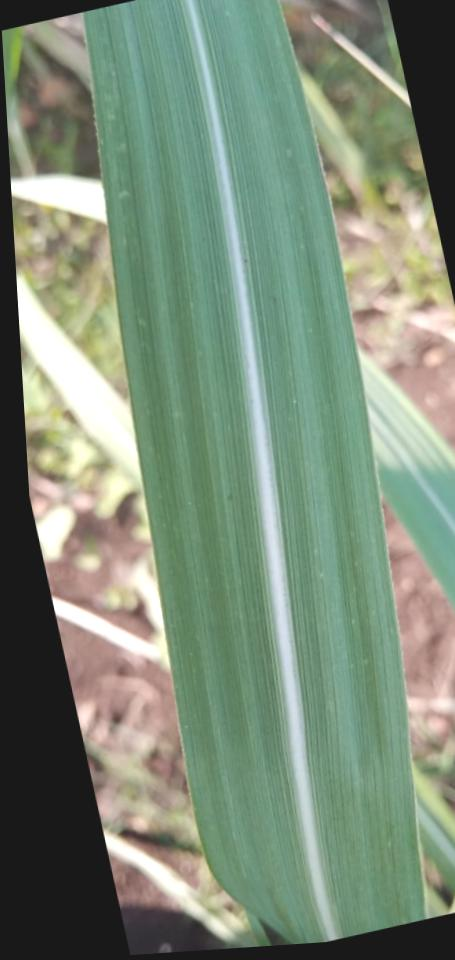Healthy: (85, 0, 328, 944), (193, 0, 427, 939)
